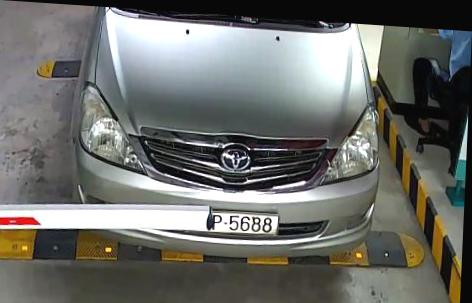License_Plate: (187, 201, 280, 244)
